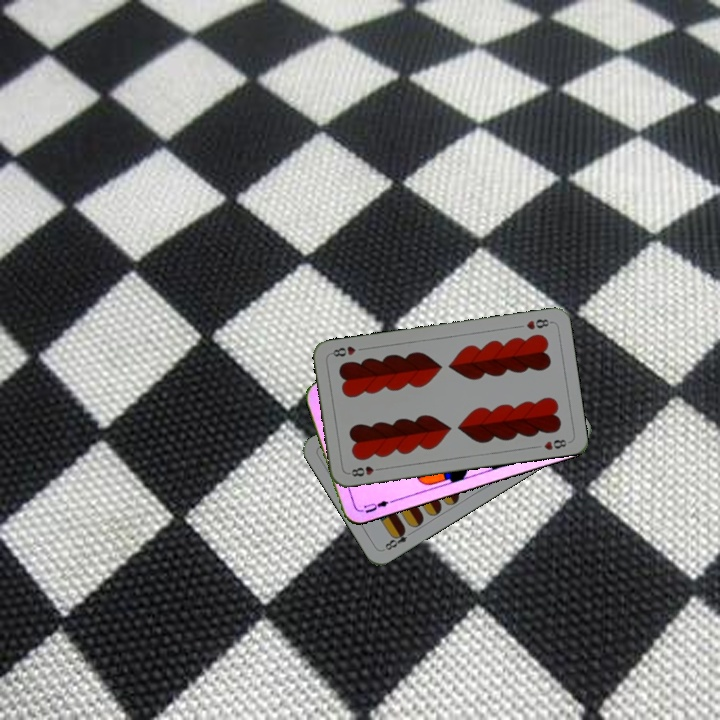E8: (379, 525, 416, 553)
EU: (355, 496, 391, 516)
H8: (345, 462, 385, 479), (522, 315, 554, 332)
